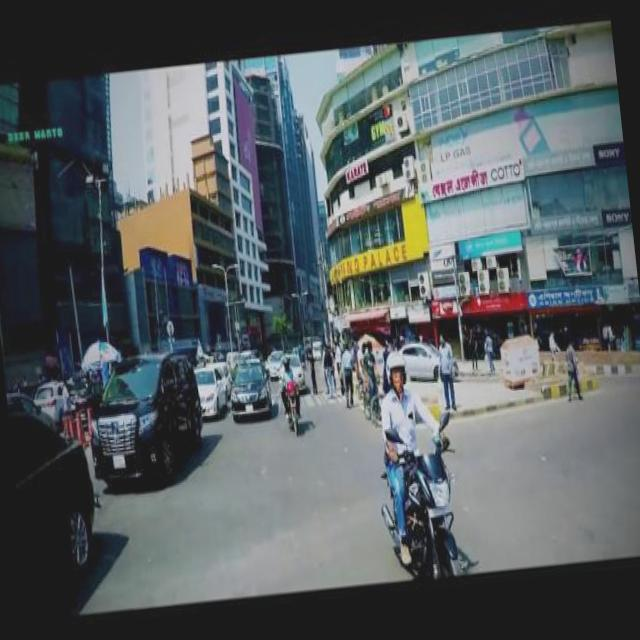car: (6, 381, 100, 595), (394, 334, 456, 381), (223, 354, 270, 412), (193, 360, 228, 415), (286, 348, 302, 385), (264, 346, 282, 374)
motorcycle: (368, 407, 466, 572), (276, 371, 301, 429)
truck: (78, 345, 205, 479)
